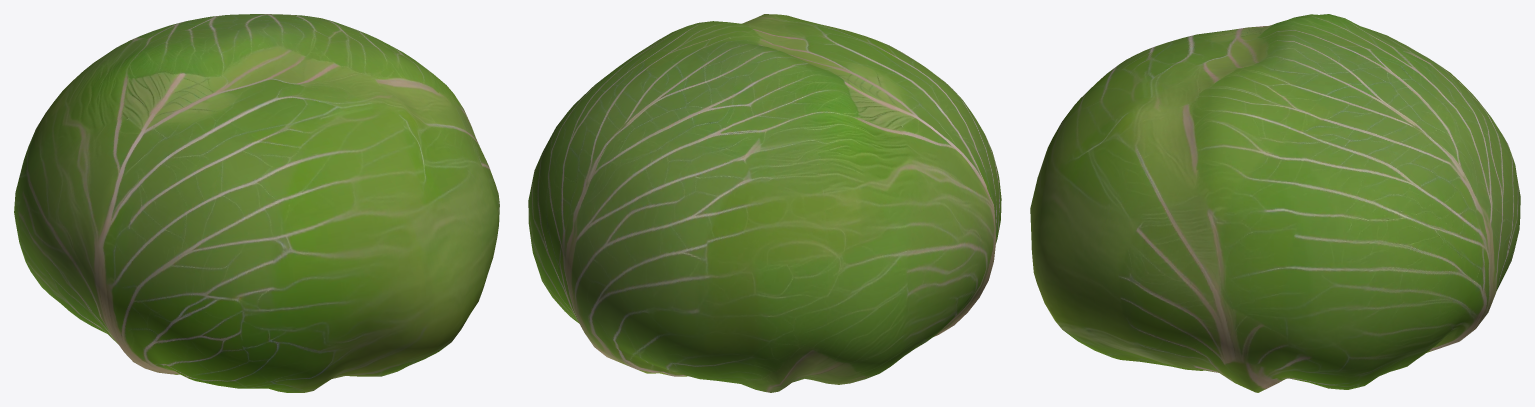
File: cabbage.glb
3 renders of one model, left to right at view 1: azimuth 30°, elevation 25°; view 2: azimuth 150°, elevation 25°; view 3: azimuth 270°, elevation 25°, orthographic.
Visible parts, largest first — view 1: Cabbage_Material.001_0; view 2: Cabbage_Material.001_0; view 3: Cabbage_Material.001_0.
Boxes of the visible parts, <box> form: Cabbage_Material.001_0: <box>14,14,499,392</box>; Cabbage_Material.001_0: <box>528,14,1001,392</box>; Cabbage_Material.001_0: <box>1030,14,1520,392</box>.
Bounding box in the file's own units: 16.88 × 12.21 × 17.49.
Materials: 1 (1 with a texture image).
